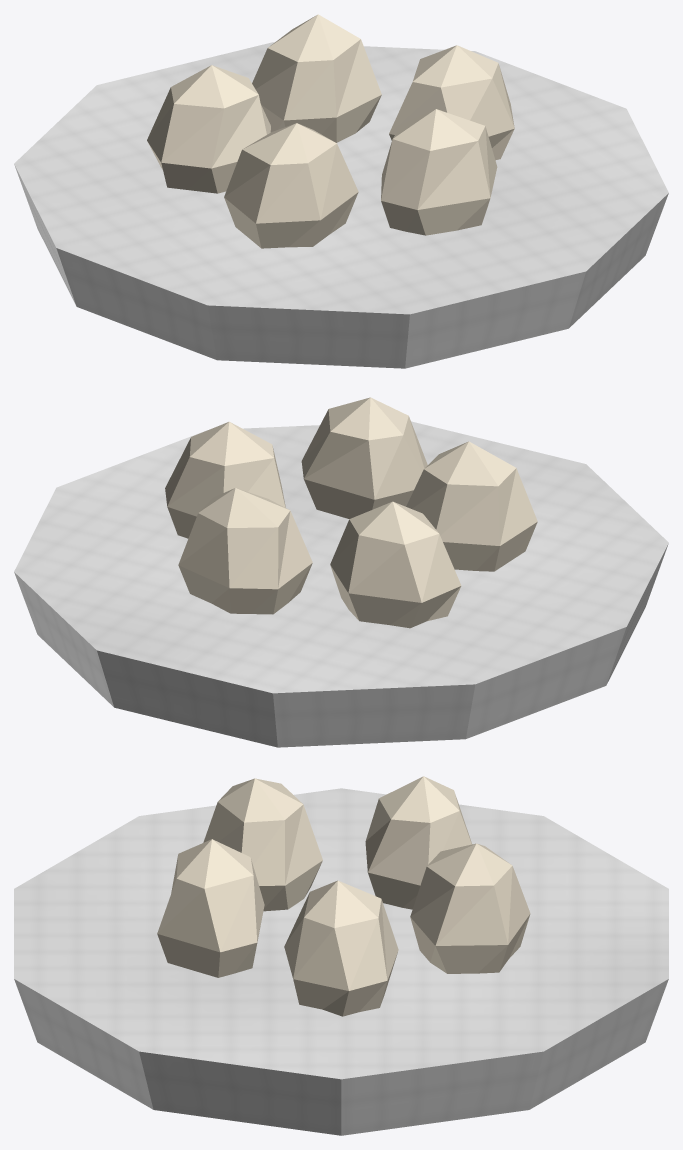
Rendered from food_eggs.obj.
3 renders of one model, top to bottom at view 1: azimuth 30°, elevation 25°; view 2: azimuth 150°, elevation 25°; view 3: azimuth 270°, elevation 25°, orthographic. The views are drawn at different scales.
Visible parts, largest first — view 1: food_eggs; view 2: food_eggs; view 3: food_eggs.
Part boxes in pixels (x1,y1,x2,y2): food_eggs: (14, 14, 668, 368); food_eggs: (14, 397, 668, 747); food_eggs: (14, 776, 668, 1135).
Size of the model in its own units: 0.56 by 0.16 by 0.5326.
